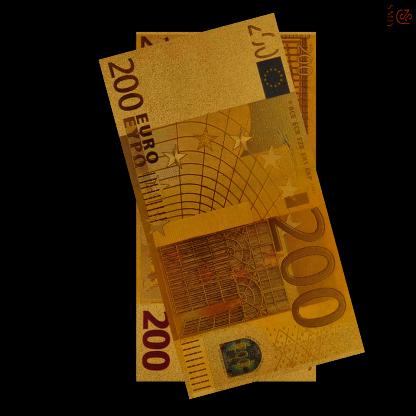euro_banknote: (56, 117, 408, 297)
